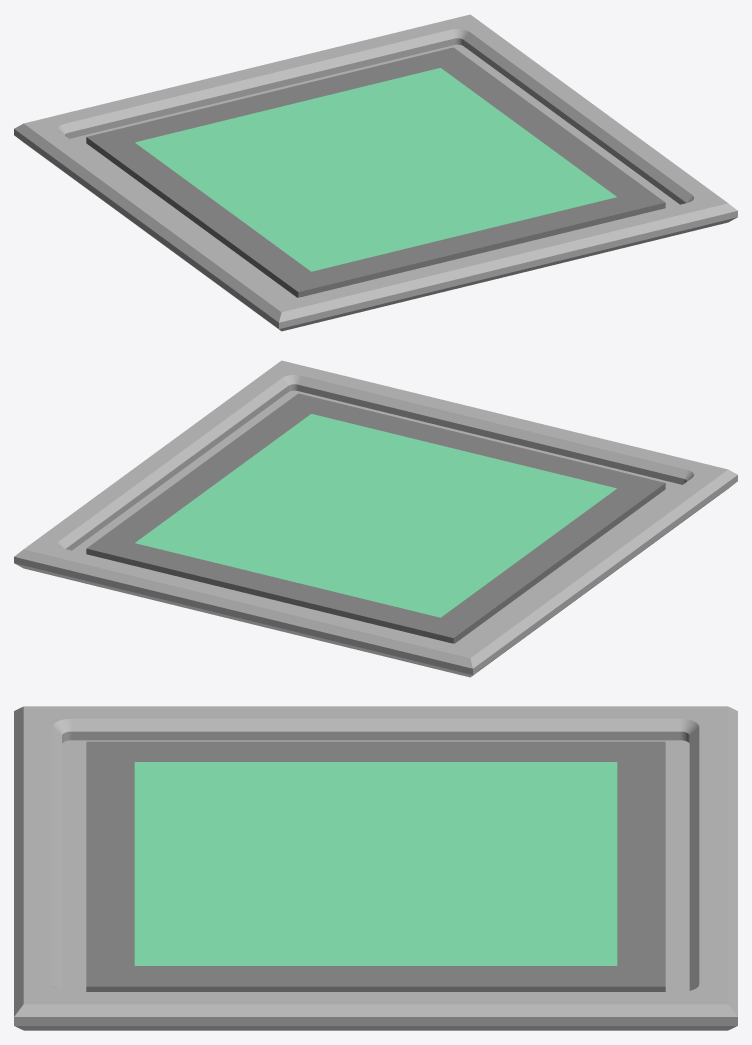
Rendered from detector.glb.
3 views of the same model, one above another, from view 1: azimuth 30°, elevation 25°; view 2: azimuth 150°, elevation 25°; view 3: azimuth 270°, elevation 25° (orthographic). The views are drawn at different scales.
Parts seen in each view (by area): view 1: Array-1, Chip-1, Frame-1; view 2: Array-1, Chip-1, Frame-1; view 3: Array-1, Chip-1, Frame-1.
Boxes of the visible parts, x1=… form: Array-1: x1=135, y1=68, x2=616, y2=271; Chip-1: x1=14, y1=14, x2=737, y2=331; Frame-1: x1=86, y1=47, x2=665, y2=297; Array-1: x1=135, y1=414, x2=616, y2=617; Chip-1: x1=14, y1=360, x2=737, y2=677; Frame-1: x1=86, y1=393, x2=665, y2=643; Array-1: x1=134, y1=762, x2=617, y2=965; Chip-1: x1=14, y1=706, x2=737, y2=1030; Frame-1: x1=86, y1=741, x2=665, y2=991.
Bounding box in the file's own units: 0.075 × 0.003 × 0.075.
